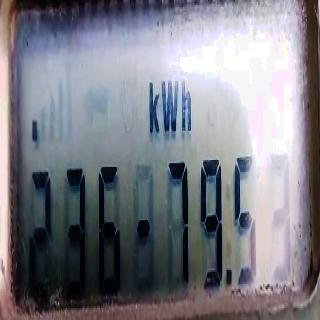-: (136, 212, 151, 242), (31, 113, 39, 148)
2: (26, 160, 52, 315)
3: (62, 163, 89, 308)
5: (232, 146, 259, 296)
6: (94, 155, 123, 306)
7: (164, 153, 193, 293)
9: (198, 148, 225, 292)
